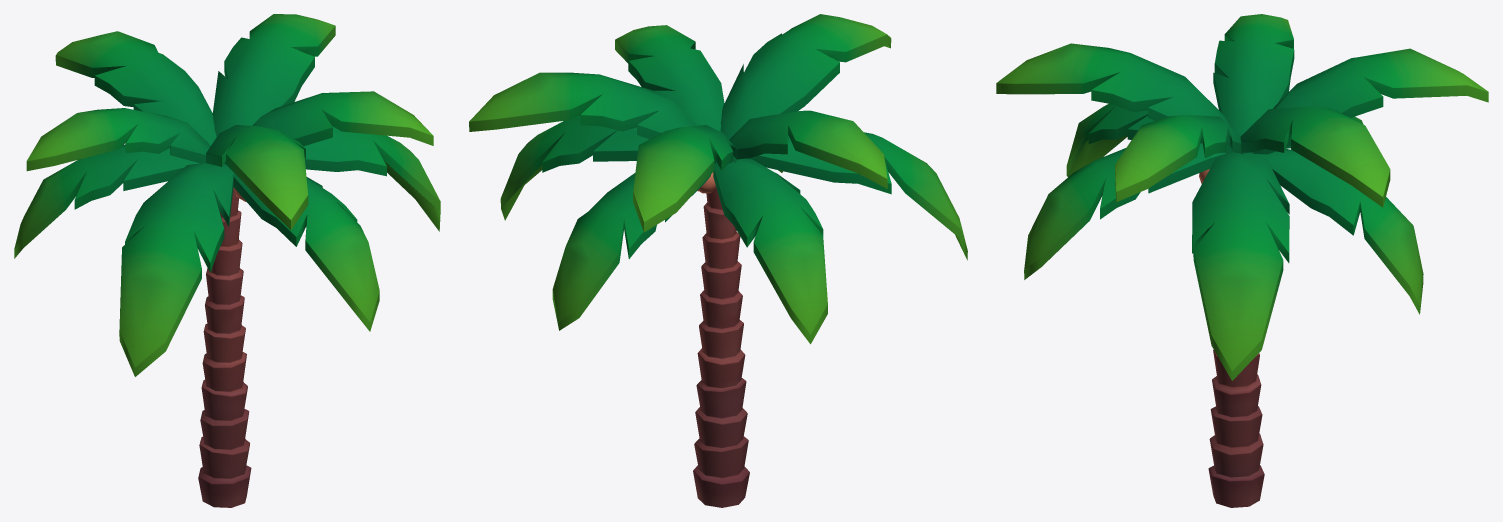
Rendered from arboles2.fbx.
The picture shows the model from 3 angles, left to right: view 1: azimuth 30°, elevation 25°; view 2: azimuth 150°, elevation 25°; view 3: azimuth 270°, elevation 25°; orthographic projection. The views are drawn at different scales.
Parts seen in each view (by area): view 1: Tree.028_Base_Material_0.001; view 2: Tree.028_Base_Material_0.001; view 3: Tree.028_Base_Material_0.001.
Boxes of the visible parts, x1,y1,x2,y2 form: Tree.028_Base_Material_0.001: [14, 14, 440, 507]; Tree.028_Base_Material_0.001: [469, 14, 967, 507]; Tree.028_Base_Material_0.001: [996, 14, 1488, 507].
Bounding box in the file's own units: 747 × 757 × 780.
